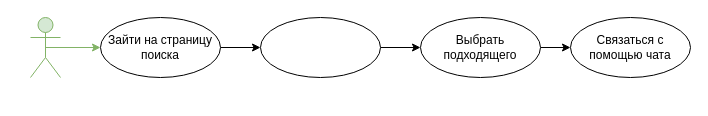
The diagram is 708 pixels wide and 116 high, and some of its shapes have lost their labels. The centre of each missing label's shape, as x and y in pixels:
"Выставить фильтры по поиску" belongs at (320,47).
"Продюсер" belongs at (45,47).
